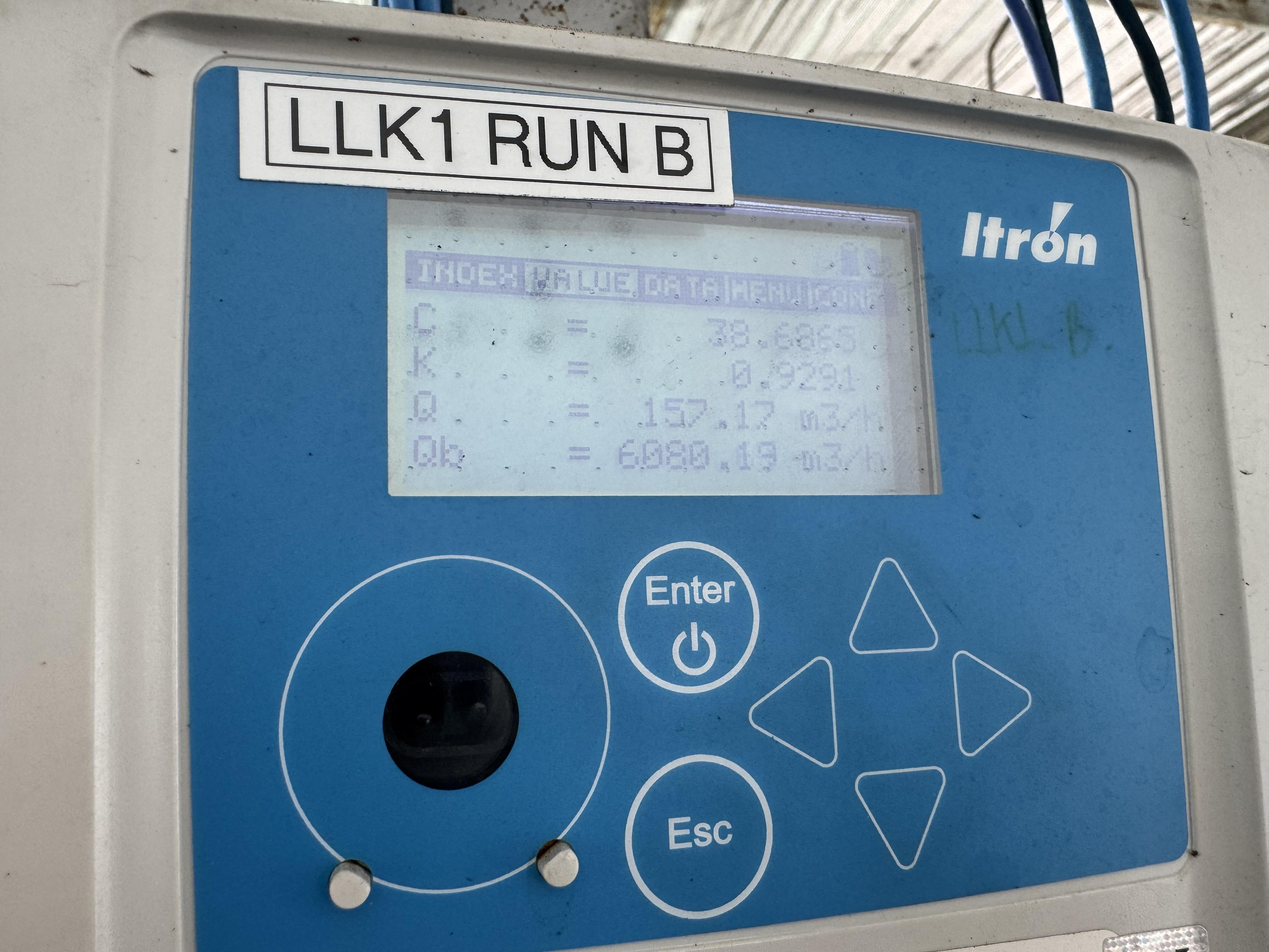digital_screen: (384, 178, 942, 499)
